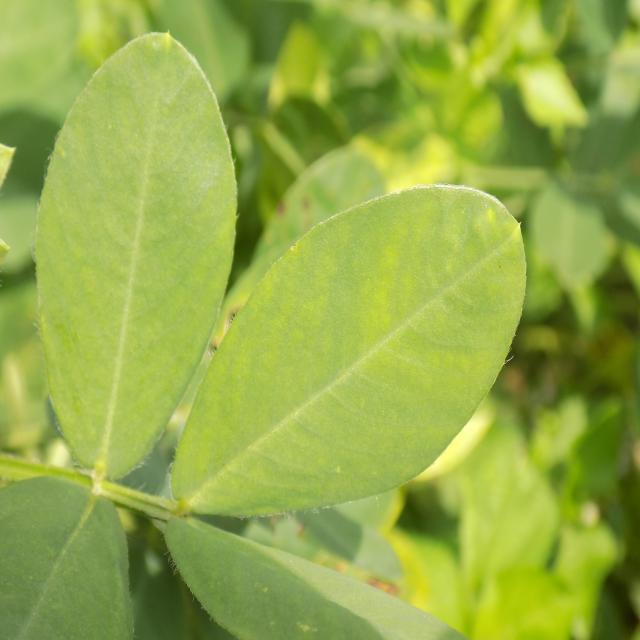Ground nut_healthy: (176, 181, 527, 519), (38, 28, 235, 482)
